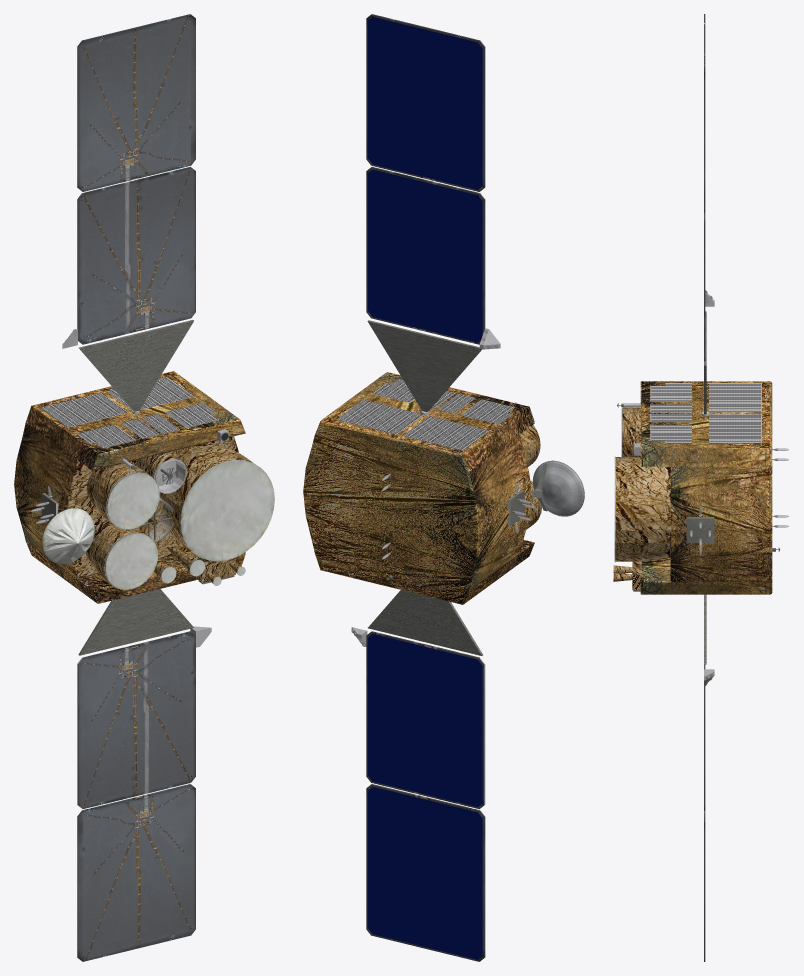
File: dscs3.obj
3 views of the same model, side by side, from view 1: azimuth 30°, elevation 25°; view 2: azimuth 150°, elevation 25°; view 3: azimuth 270°, elevation 25° (orthographic). The views are drawn at different scales.
Visible parts, largest first — view 1: SolarPanel.7, SolarPanel.6, DSCS_III.4, DSCS_III.7, SolarPanel.2, DSCS_III.8, DSCS_III.20, DSCS_III.6, DSCS_III.17, GDA.2, DSCS_III.14, DSCS_III.15; view 2: SolarPanel.5, DSCS_III.4, SolarPanel.2, DSCS_III.20, DSCS_III.6, SolarPanel.7, SolarPanel.6, GDA.1, DSCS_III.8, SolarPanel.1; view 3: DSCS_III.4, DSCS_III.8, DSCS_III.20, DSCS_III.6, DSCS_III.15, SolarPanel.7, SolarPanel.6, SolarPanel.2, DSCS_III.17.
Part boxes in pixels (x1,y1,x2,y2): SolarPanel.7: (77, 14, 195, 961); SolarPanel.6: (77, 166, 195, 808); DSCS_III.4: (14, 371, 245, 603); DSCS_III.7: (105, 460, 274, 589); SolarPanel.2: (78, 320, 193, 655); DSCS_III.8: (85, 444, 252, 589); DSCS_III.20: (40, 376, 218, 448); DSCS_III.6: (41, 376, 217, 447); DSCS_III.17: (66, 436, 238, 582); GDA.2: (42, 508, 94, 564); DSCS_III.14: (122, 429, 228, 492); DSCS_III.15: (41, 472, 234, 584); SolarPanel.5: (367, 17, 482, 959); DSCS_III.4: (303, 372, 534, 604); SolarPanel.2: (367, 320, 482, 655); DSCS_III.20: (336, 379, 514, 450); DSCS_III.6: (337, 379, 513, 450); SolarPanel.7: (366, 14, 485, 961); SolarPanel.6: (366, 167, 485, 809); GDA.1: (532, 461, 584, 516); DSCS_III.8: (520, 425, 541, 529); SolarPanel.1: (351, 328, 500, 804); DSCS_III.4: (640, 381, 772, 594); DSCS_III.8: (614, 407, 670, 581); DSCS_III.20: (650, 383, 761, 443); DSCS_III.6: (651, 384, 760, 443); DSCS_III.15: (621, 408, 714, 591); SolarPanel.7: (704, 14, 705, 961); SolarPanel.6: (704, 212, 705, 810); SolarPanel.2: (704, 311, 706, 664); DSCS_III.17: (632, 466, 670, 590).
Size of the model in its own units: 3.1 by 11.86 by 2.11.
Materials: 51 (16 with a texture image).
